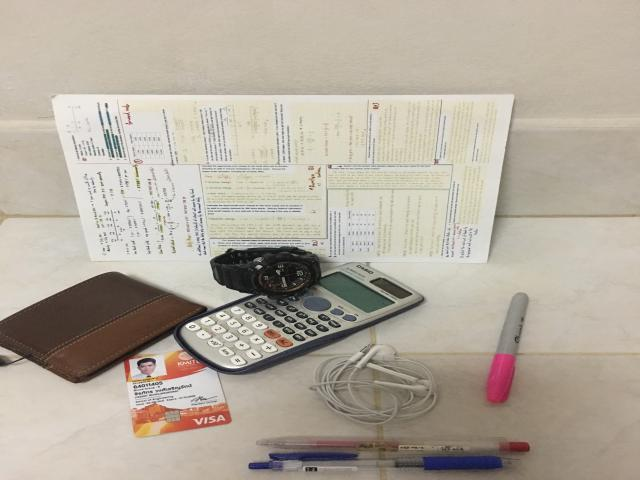Pen: (248, 437, 530, 472), (487, 292, 528, 403)
Wallet: (0, 272, 205, 382)
Watch: (210, 247, 322, 299)
paper: (53, 95, 513, 262)
wire: (312, 344, 437, 425)
